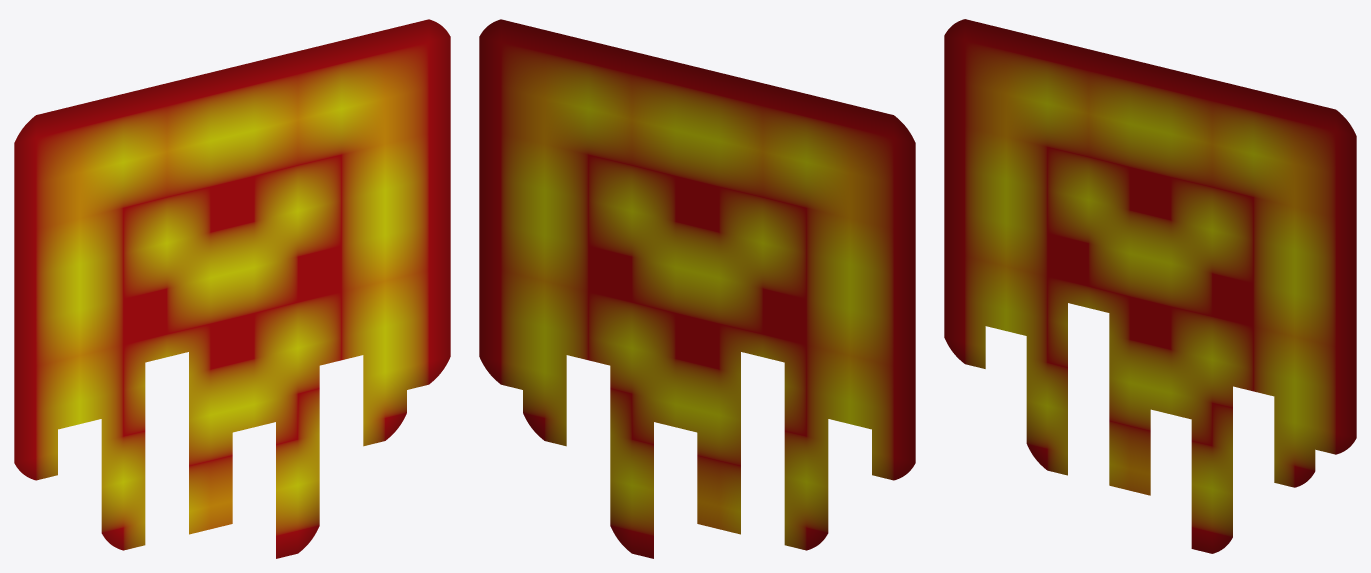
File: Fortress_Flag_S_02_2.fbx
3 views of the same model, side by side, from view 1: azimuth 30°, elevation 25°; view 2: azimuth 150°, elevation 25°; view 3: azimuth 330°, elevation 25° (orthographic). The views are drawn at different scales.
Parts seen in each view (by area): view 1: Fortress_Flag_S_02_2; view 2: Fortress_Flag_S_02_2; view 3: Fortress_Flag_S_02_2.
Part boxes in pixels (x1,y1,x2,y2): Fortress_Flag_S_02_2: [14, 19, 450, 558]; Fortress_Flag_S_02_2: [479, 19, 915, 558]; Fortress_Flag_S_02_2: [944, 19, 1356, 553].
Size of the model in its own units: 62.5 by 68.75 by 1.09e-11.
